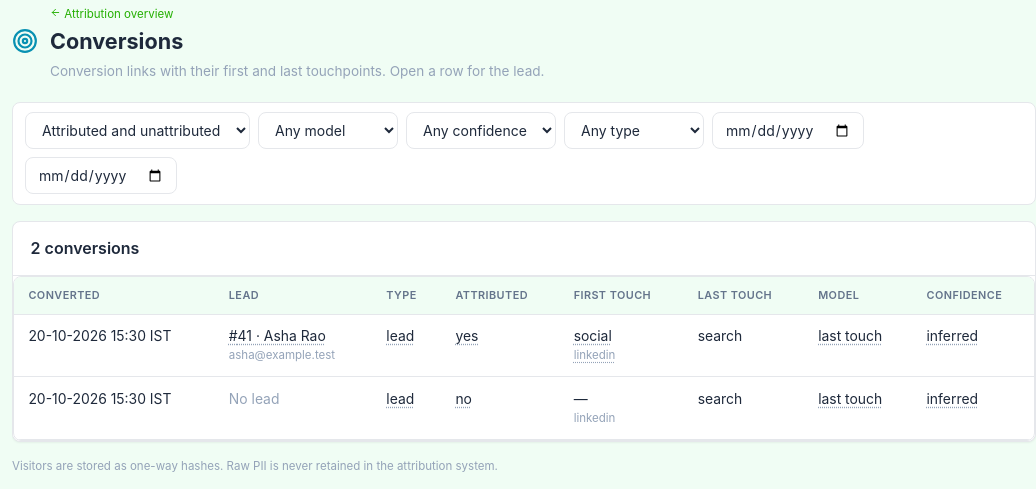
it: AttributionConversionsPage › keeps a changed filter in the query
Select "Unattributed" in the dropdown named "Attributed" at (138, 131), box [25,112,250,149]
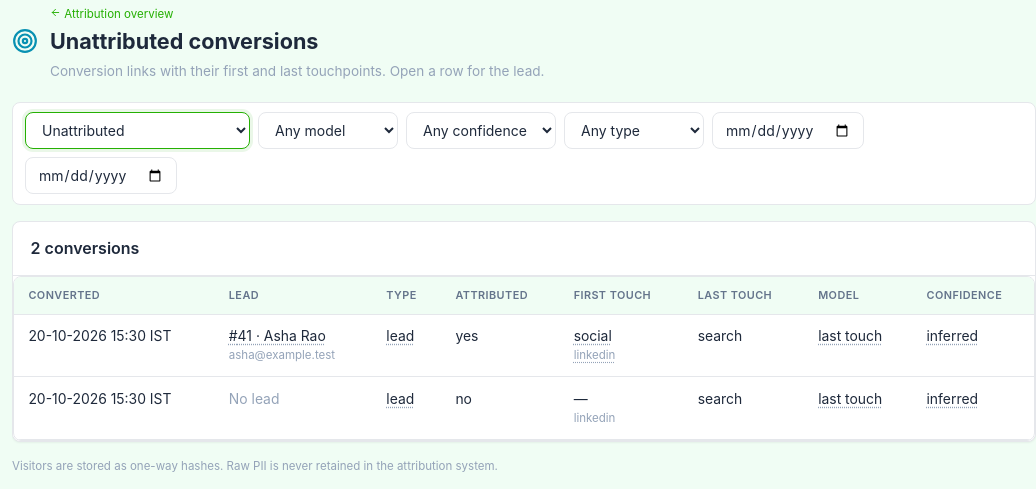
Check: the heading "Unattributed conversions" is shown, box [50,28,318,54]
